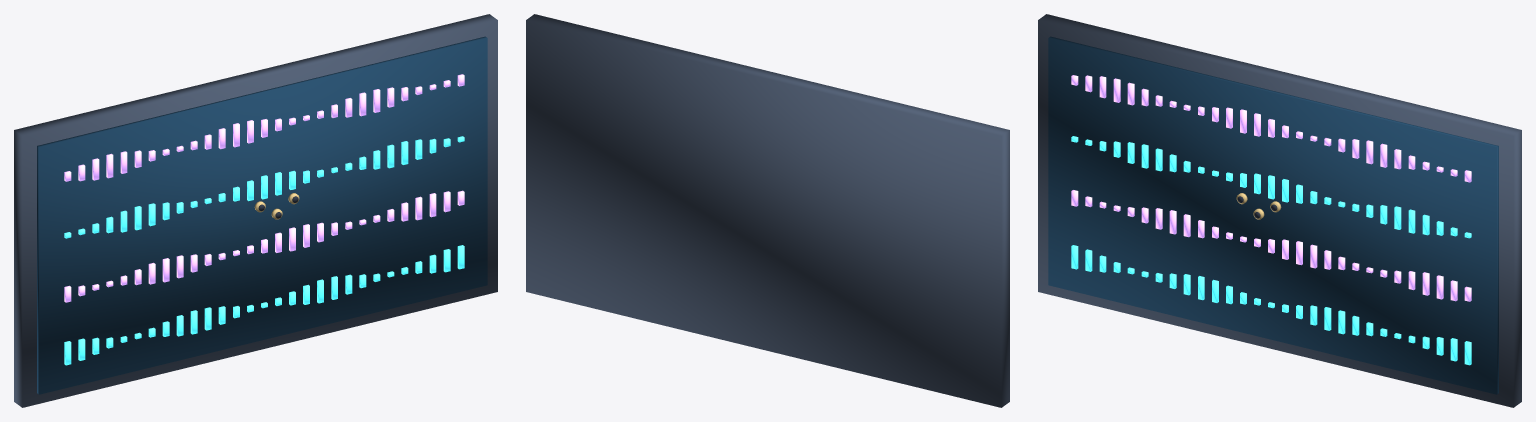
File: 09_L91_PulsarPhaseReferenceDisplay.glb
3 renders of one model, left to right at view 1: azimuth 30°, elevation 25°; view 2: azimuth 150°, elevation 25°; view 3: azimuth 330°, elevation 25°, orthographic.
Parts seen in each view (by area): view 1: L91_PulsarPhaseReferenceDispl_Part_0001, L91_PulsarPhaseReferenceDispl_Part_0000, L91_PulsarPhaseReferenceDispl_Part_0007, L91_PulsarPhaseReferenceDispl_Part_0003, L91_PulsarPhaseReferenceDispl_Part_0002, L91_PulsarPhaseReferenceDispl_Part_0006, L91_PulsarPhaseReferenceDispl_Part_0004, L91_PulsarPhaseReferenceDispl_Part_0008, L91_PulsarPhaseReferenceDispl_Part_0005, L91_PulsarPhaseReferenceDispl_Part_0009; view 2: L91_PulsarPhaseReferenceDispl_Part_0000; view 3: L91_PulsarPhaseReferenceDispl_Part_0001, L91_PulsarPhaseReferenceDispl_Part_0000, L91_PulsarPhaseReferenceDispl_Part_0007, L91_PulsarPhaseReferenceDispl_Part_0003, L91_PulsarPhaseReferenceDispl_Part_0002, L91_PulsarPhaseReferenceDispl_Part_0004, L91_PulsarPhaseReferenceDispl_Part_0006, L91_PulsarPhaseReferenceDispl_Part_0008, L91_PulsarPhaseReferenceDispl_Part_0005, L91_PulsarPhaseReferenceDispl_Part_0009.
Boxes of the visible parts, x1,y1,x2,y2 form: L91_PulsarPhaseReferenceDispl_Part_0001: [37, 36, 487, 394]; L91_PulsarPhaseReferenceDispl_Part_0000: [14, 14, 497, 407]; L91_PulsarPhaseReferenceDispl_Part_0007: [64, 151, 464, 247]; L91_PulsarPhaseReferenceDispl_Part_0003: [64, 210, 464, 304]; L91_PulsarPhaseReferenceDispl_Part_0002: [64, 291, 295, 365]; L91_PulsarPhaseReferenceDispl_Part_0006: [64, 227, 295, 302]; L91_PulsarPhaseReferenceDispl_Part_0004: [134, 156, 366, 230]; L91_PulsarPhaseReferenceDispl_Part_0008: [134, 92, 366, 167]; L91_PulsarPhaseReferenceDispl_Part_0005: [373, 136, 464, 169]; L91_PulsarPhaseReferenceDispl_Part_0009: [373, 74, 464, 112]; L91_PulsarPhaseReferenceDispl_Part_0000: [526, 14, 1009, 407]; L91_PulsarPhaseReferenceDispl_Part_0001: [1048, 36, 1498, 394]; L91_PulsarPhaseReferenceDispl_Part_0000: [1038, 14, 1521, 407]; L91_PulsarPhaseReferenceDispl_Part_0007: [1071, 75, 1471, 301]; L91_PulsarPhaseReferenceDispl_Part_0003: [1071, 136, 1471, 365]; L91_PulsarPhaseReferenceDispl_Part_0002: [1071, 245, 1302, 319]; L91_PulsarPhaseReferenceDispl_Part_0004: [1141, 144, 1373, 217]; L91_PulsarPhaseReferenceDispl_Part_0006: [1071, 190, 1302, 265]; L91_PulsarPhaseReferenceDispl_Part_0008: [1141, 88, 1373, 164]; L91_PulsarPhaseReferenceDispl_Part_0005: [1380, 205, 1471, 238]; L91_PulsarPhaseReferenceDispl_Part_0009: [1380, 143, 1471, 182].
Size of the model in its own units: 6.5 by 3.55 by 0.642.
